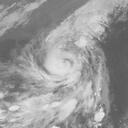cyclone: (1, 1, 116, 127)
